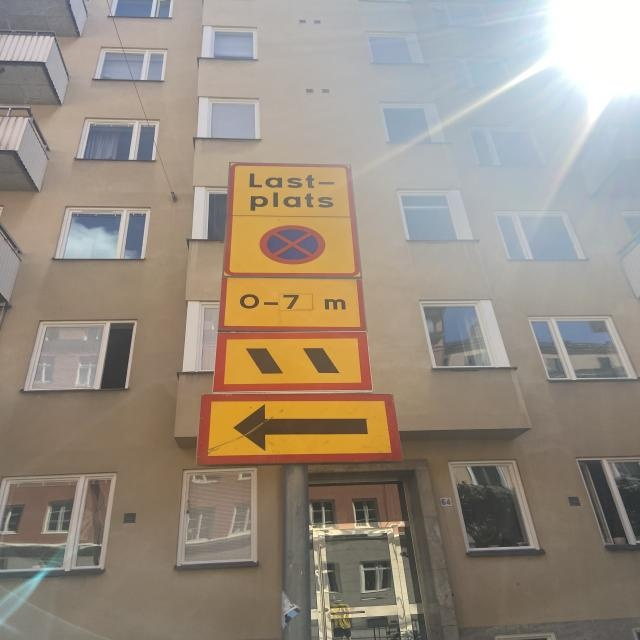lastplats: (225, 162, 355, 274)
